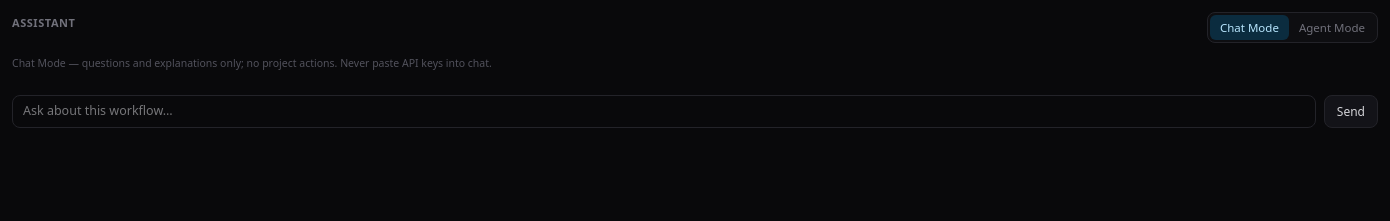
AssistantPanel modes › Chat Mode blocks action requests with the exact switch message
Type "run the workflow now" into the field named "Assistant message". click: (664, 112)
box: [12, 95, 1316, 128]
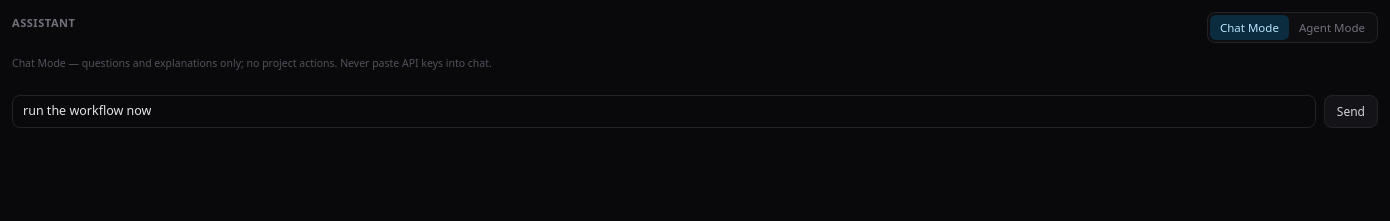
Click the button "Send". click: (1351, 112)
box: [1324, 95, 1378, 128]
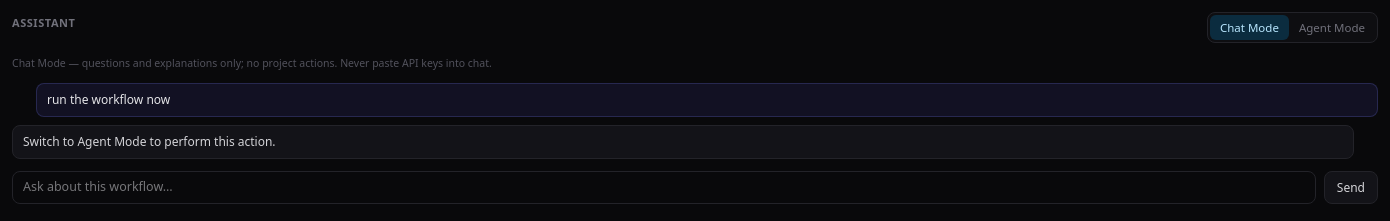
Check: the text "Switch to Agent Mode to perform this action." is shown, box [12, 125, 1354, 159]
